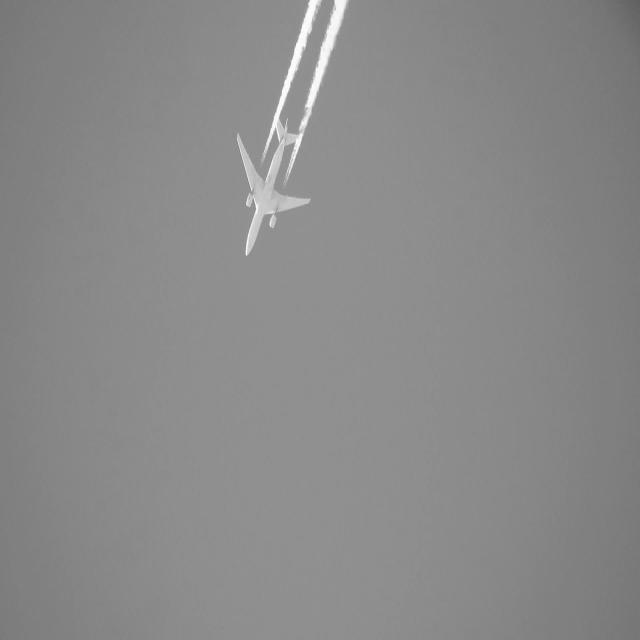aeroplane: (232, 112, 318, 264)
